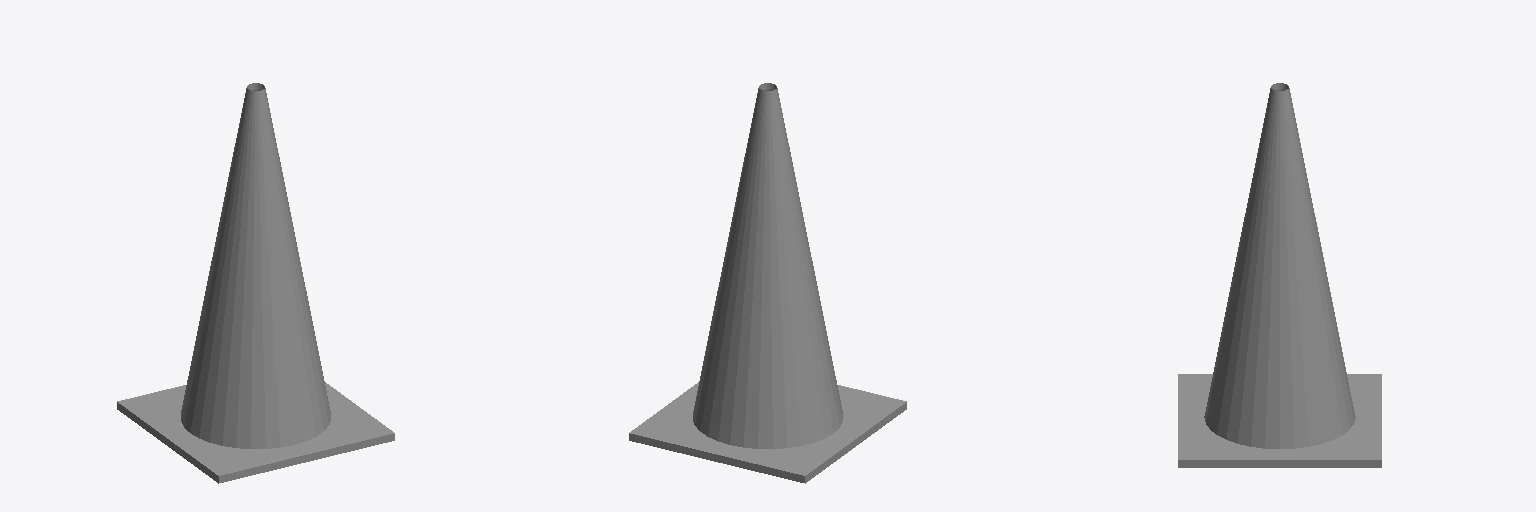
The model's file is Traffic-Cone.obj.
3 views of the same model, side by side, from view 1: azimuth 30°, elevation 25°; view 2: azimuth 150°, elevation 25°; view 3: azimuth 270°, elevation 25° (orthographic).
Parts seen in each view (by area): view 1: TRAFFIC-CONE_Circle.001; view 2: TRAFFIC-CONE_Circle.001; view 3: TRAFFIC-CONE_Circle.001.
Boxes of the visible parts, box(x1,y1,x2,y2) form: TRAFFIC-CONE_Circle.001: box(117, 83, 394, 483); TRAFFIC-CONE_Circle.001: box(629, 83, 906, 483); TRAFFIC-CONE_Circle.001: box(1178, 83, 1381, 467).
Size of the model in its own units: 2 by 3.66 by 2.